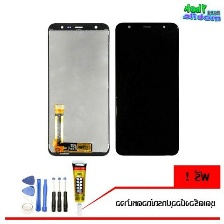phone: (113, 16, 182, 158), (44, 19, 109, 157)
